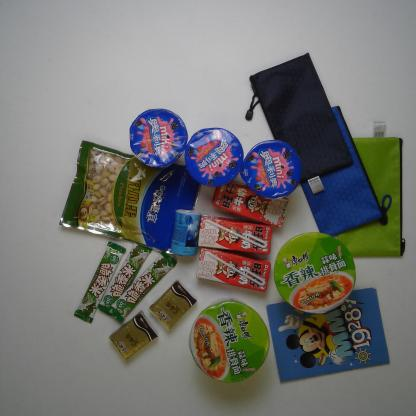Chocolate: (106, 251, 177, 321), (98, 235, 152, 316), (73, 242, 126, 324)
Dessert: (184, 127, 244, 186), (241, 140, 302, 198), (128, 109, 188, 167)
Dried Fruit: (59, 140, 205, 256)
Gum: (170, 210, 201, 257)
Instant Noodles: (189, 300, 269, 382), (274, 233, 356, 311)
Milk: (212, 176, 289, 228), (196, 248, 270, 292), (198, 216, 273, 256)
Stationery: (270, 106, 390, 240), (244, 54, 354, 184), (267, 288, 391, 383), (337, 137, 406, 258)
Tissue: (149, 280, 197, 330), (109, 311, 156, 361)
